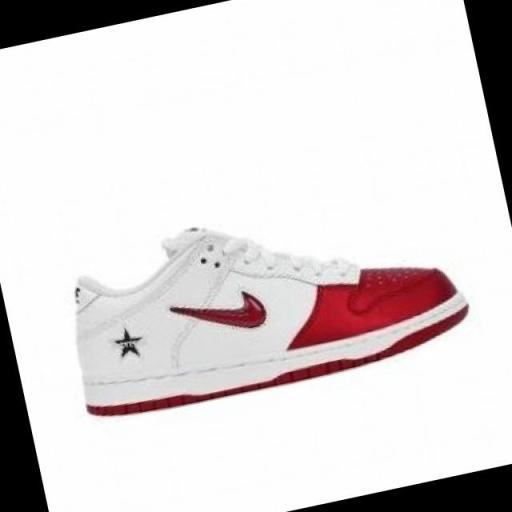Nike: (160, 282, 275, 352)
